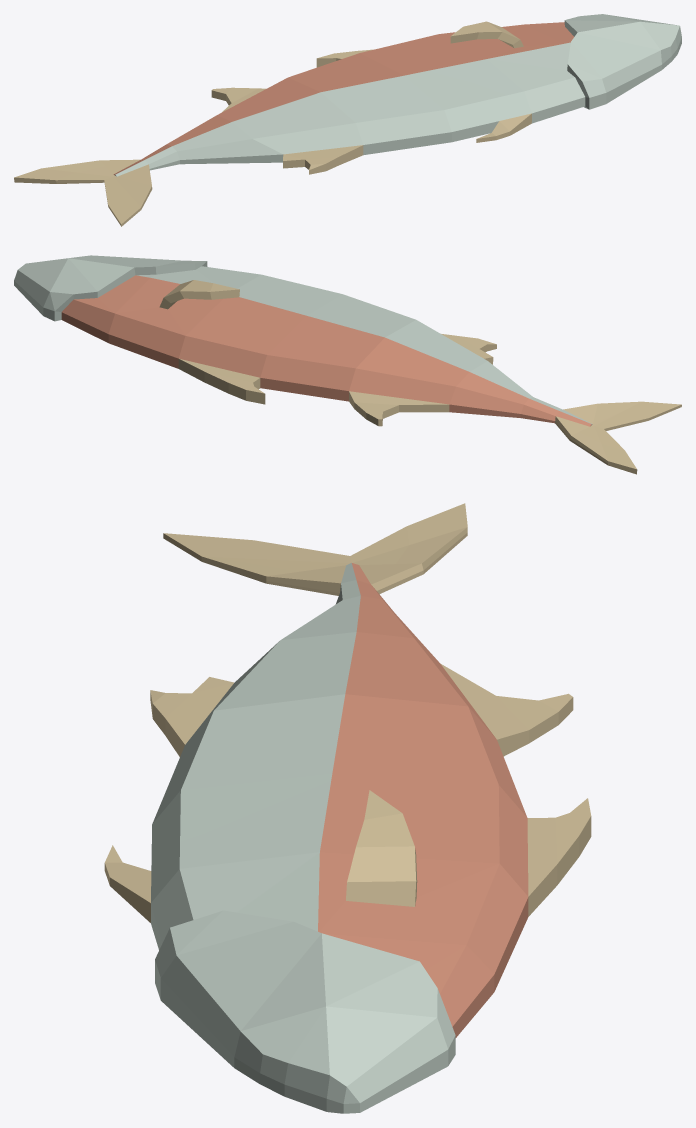
File: Fish.glb
3 renders of one model, top to bottom at view 1: azimuth 30°, elevation 25°; view 2: azimuth 150°, elevation 25°; view 3: azimuth 270°, elevation 25°, orthographic. The views are drawn at different scales.
Parts seen in each view (by area): view 1: Bottom, Top, Fins; view 2: Top, Bottom, Fins; view 3: Bottom, Top, Fins.
Part boxes in pixels (x1,y1,x2,y2): Bottom: (115, 14, 681, 176); Top: (113, 22, 573, 175); Fins: (14, 21, 531, 226); Top: (61, 275, 591, 426); Bottom: (14, 255, 592, 424); Fins: (159, 280, 681, 474); Bottom: (151, 563, 455, 1113); Top: (318, 563, 528, 1037); Fins: (104, 503, 591, 922).
Size of the model in its own units: 3.2 by 0.303 by 1.06.
